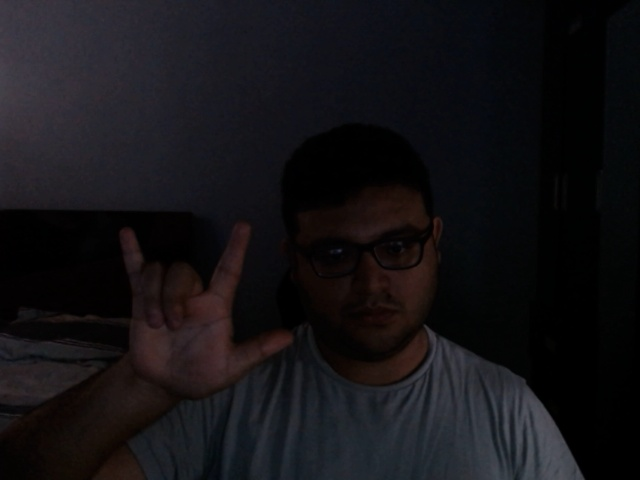I love you: (112, 212, 298, 405)
